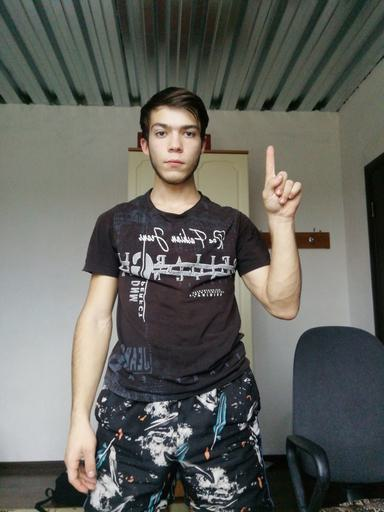one: (260, 143, 304, 221)
